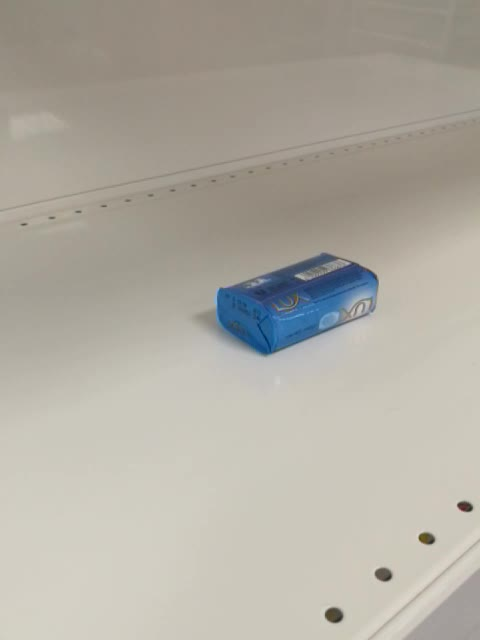soap: (214, 250, 381, 357)
